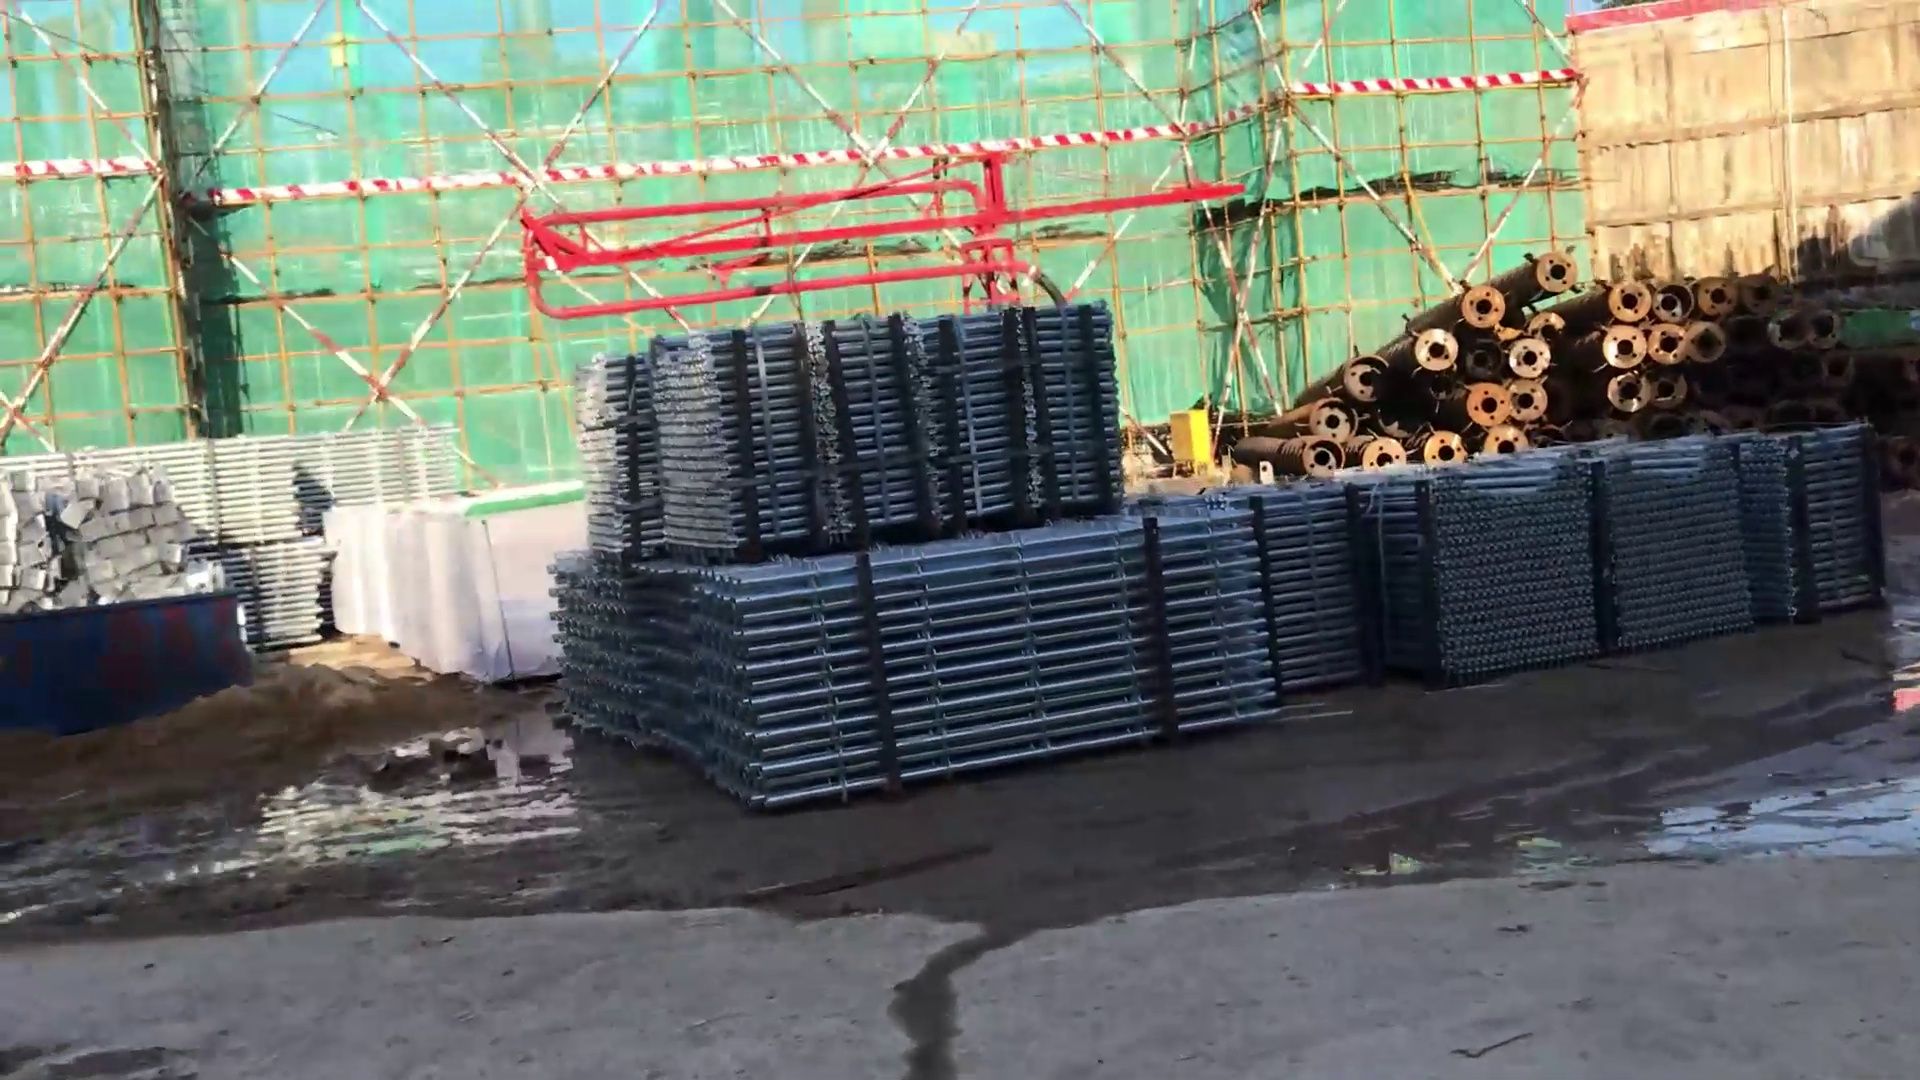ebox: (1158, 402, 1233, 491)
hopper: (18, 607, 269, 748)
scaffold: (538, 508, 1271, 775), (570, 293, 1171, 550), (1367, 430, 1586, 690), (1573, 427, 1763, 653), (1738, 413, 1899, 622), (171, 419, 322, 541), (306, 411, 473, 498), (222, 539, 322, 650)
